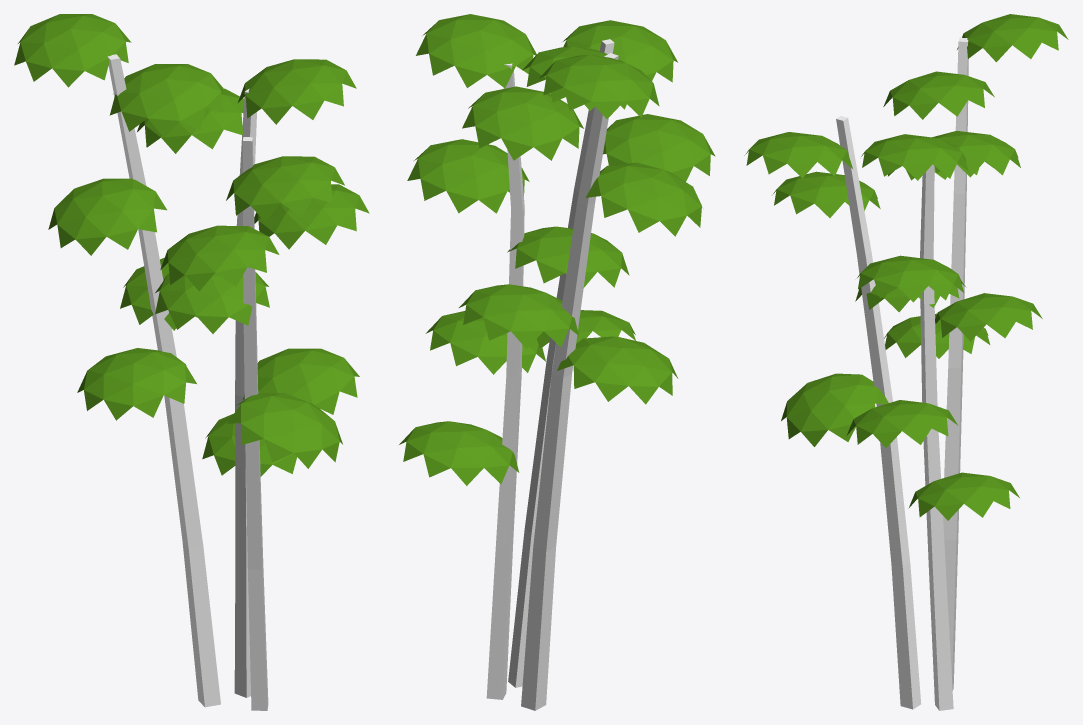
File: Bamboo.fbx
3 renders of one model, left to right at view 1: azimuth 30°, elevation 25°; view 2: azimuth 150°, elevation 25°; view 3: azimuth 270°, elevation 25°, orthographic. The views are drawn at different scales.
Visible parts, largest first — view 1: Bamboo; view 2: Bamboo; view 3: Bamboo.
Part boxes in pixels (x1,y1,x2,y2): Bamboo: (14,14,369,710); Bamboo: (399,14,715,710); Bamboo: (744,14,1068,710).
Bounding box in the file's own units: 1.21 × 2.69 × 1.26.
